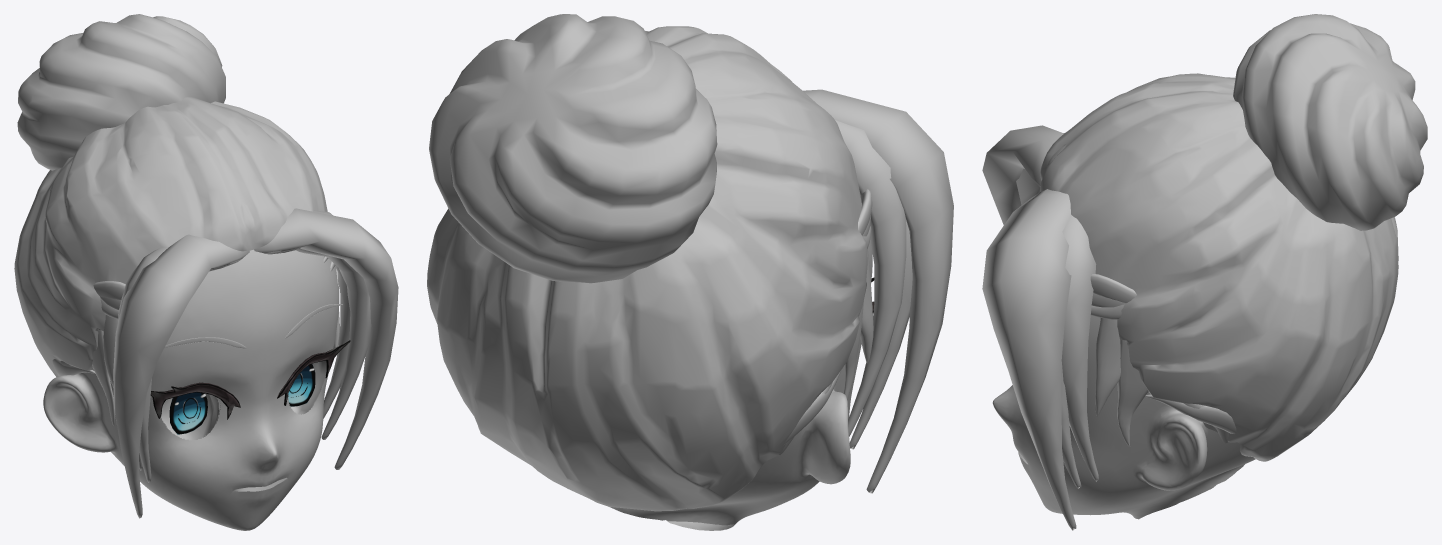
The model's file is female_hair_bun 2.glb.
3 renders of one model, left to right at view 1: azimuth 30°, elevation 25°; view 2: azimuth 150°, elevation 25°; view 3: azimuth 270°, elevation 25°, orthographic. The views are drawn at different scales.
Visible parts, largest first — view 1: face_0, face_1, hair_0, hair_3, hair_2, hair_13, hair_1, hair_11, hair_14, hair_5, hair_4, hair_12 (+1 smaller); view 2: face_0, hair_3, hair_0, face_1, hair_1, hair_2, hair_5, hair_6; view 3: face_0, hair_3, hair_0, face_1, hair_1, hair_5, hair_4, hair_2, hair_6, hair_8.
Boxes of the visible parts, box(x1,y1,x2,y2) form: face_0: box(14, 97, 327, 376); face_1: box(43, 249, 339, 530); hair_0: box(113, 208, 398, 518); hair_3: box(17, 14, 225, 170); hair_2: box(139, 248, 371, 482); hair_13: box(169, 364, 315, 434); hair_1: box(118, 210, 350, 470); hair_11: box(150, 340, 350, 419); hair_14: box(161, 360, 326, 440); hair_5: box(103, 311, 339, 387); hair_4: box(92, 330, 114, 425); hair_12: box(164, 304, 342, 348); face_0: box(427, 26, 867, 511); hair_3: box(429, 14, 717, 283); hair_0: box(803, 89, 953, 493); face_1: box(610, 239, 872, 530); hair_1: box(835, 120, 906, 436); hair_2: box(849, 220, 912, 449); hair_5: box(860, 248, 873, 363); hair_6: box(783, 369, 841, 445); face_0: box(1040, 73, 1398, 461); hair_3: box(1233, 14, 1427, 230); hair_0: box(982, 125, 1076, 530); face_1: box(992, 188, 1255, 519); hair_1: box(1061, 133, 1098, 481); hair_5: box(1095, 318, 1120, 416); hair_4: box(1117, 340, 1148, 446); hair_2: box(1016, 168, 1081, 488); hair_6: box(1145, 394, 1236, 433); hair_8: box(1090, 274, 1136, 302).
Size of the model in its own units: 0.2693 by 0.395 by 0.3287.
17 materials, 2 textured.
